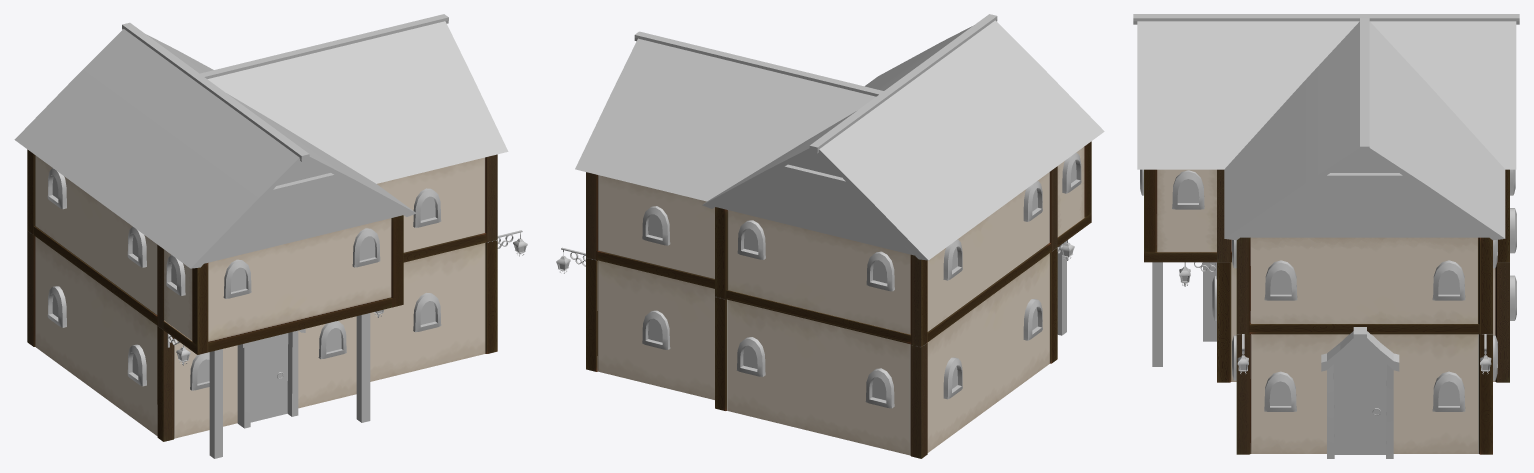
File: house3.fbx
3 renders of one model, left to right at view 1: azimuth 30°, elevation 25°; view 2: azimuth 150°, elevation 25°; view 3: azimuth 270°, elevation 25°, orthographic. The views are drawn at different scales.
Parts seen in each view (by area): view 1: polySurface81; view 2: polySurface81; view 3: polySurface81.
Boxes of the visible parts, x1,y1,x2,y2 form: polySurface81: (14,14,527,458); polySurface81: (556,14,1104,458); polySurface81: (1133,14,1519,458).
Size of the model in its own units: 930 by 673 by 754.
